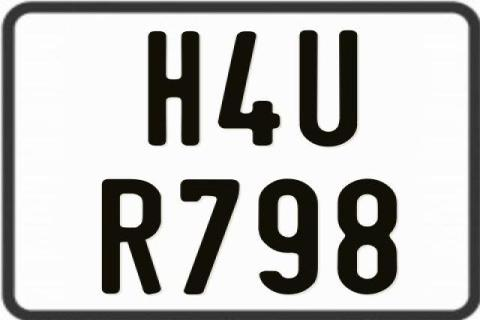0: (258, 176, 324, 294), (177, 178, 238, 298), (335, 178, 398, 294), (218, 31, 281, 146)
H: (146, 29, 198, 147)
R: (100, 177, 162, 296)
U: (296, 30, 355, 150)
